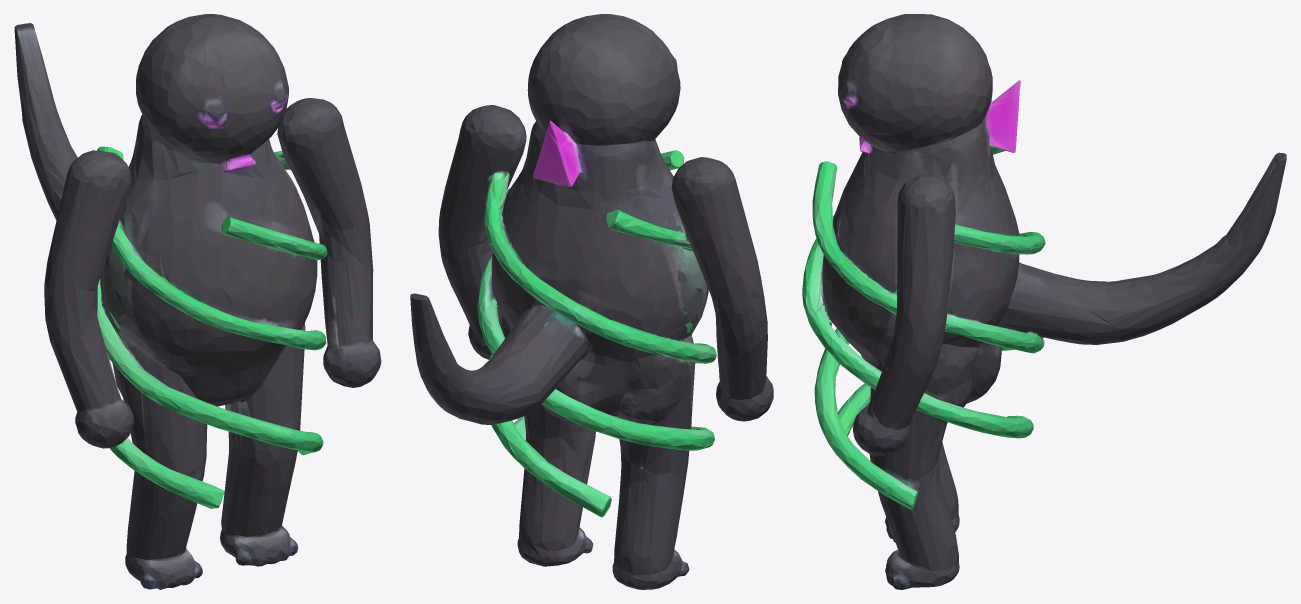
Rendered from creature-117.lod.glb.
3 renders of one model, left to right at view 1: azimuth 30°, elevation 25°; view 2: azimuth 150°, elevation 25°; view 3: azimuth 270°, elevation 25°, orthographic.
Visible parts, largest first — view 1: tmporpq06a8.ply; view 2: tmporpq06a8.ply; view 3: tmporpq06a8.ply.
Boxes of the visible parts, box(x1,y1,x2,y2) form: tmporpq06a8.ply: box(14, 14, 381, 589); tmporpq06a8.ply: box(410, 14, 773, 589); tmporpq06a8.ply: box(802, 14, 1286, 589).
Size of the model in its own units: 1.22 by 1.99 by 1.63.
1 material, 1 textured.
